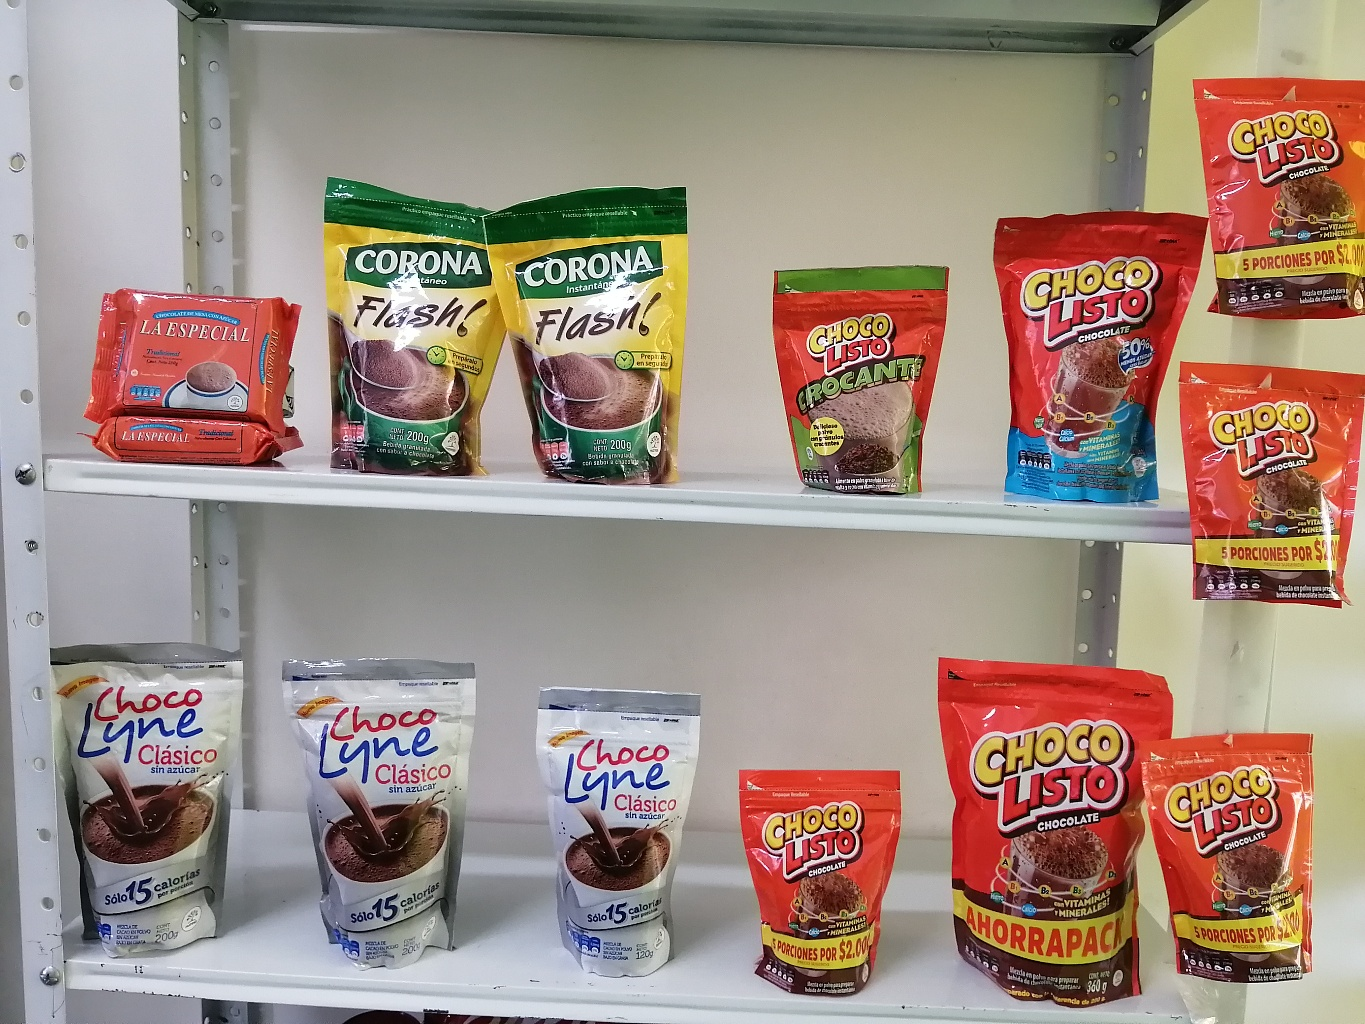COL0170102DYP10000: (759, 254, 961, 501)
COL0170103DYP1,500: (921, 643, 1177, 1016)
COL0170103DYP10000: (1121, 720, 1323, 985)
COL0170104DYP20000: (987, 195, 1213, 526)
